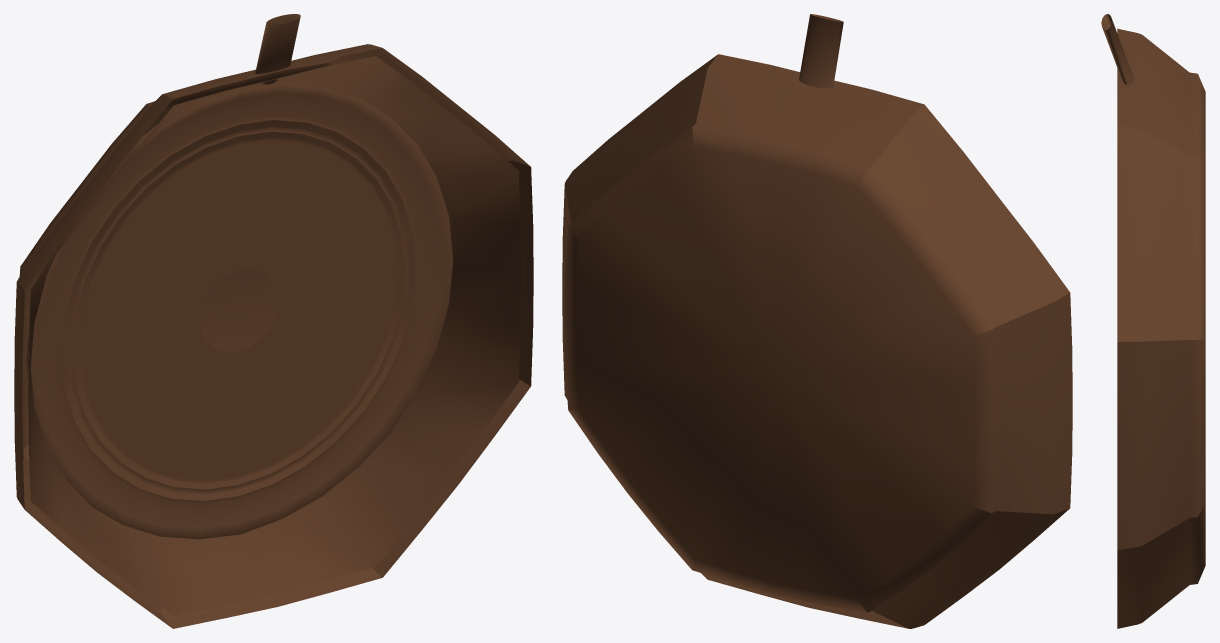
Rendered from MeshPan_5_0_GeomSubset_0.obj.
The picture shows the model from 3 angles, left to right: view 1: azimuth 30°, elevation 25°; view 2: azimuth 150°, elevation 25°; view 3: azimuth 270°, elevation 25°; orthographic projection. The views are drawn at different scales.
Parts seen in each view (by area): view 1: MeshPan_5_0_GeomSubset_0; view 2: MeshPan_5_0_GeomSubset_0; view 3: MeshPan_5_0_GeomSubset_0.
Part boxes in pixels (<box>): MeshPan_5_0_GeomSubset_0: <box>14,14,533,628</box>; MeshPan_5_0_GeomSubset_0: <box>562,14,1072,628</box>; MeshPan_5_0_GeomSubset_0: <box>1101,14,1205,628</box>.
Size of the model in its own units: 0.253 by 0.2804 by 0.047.
